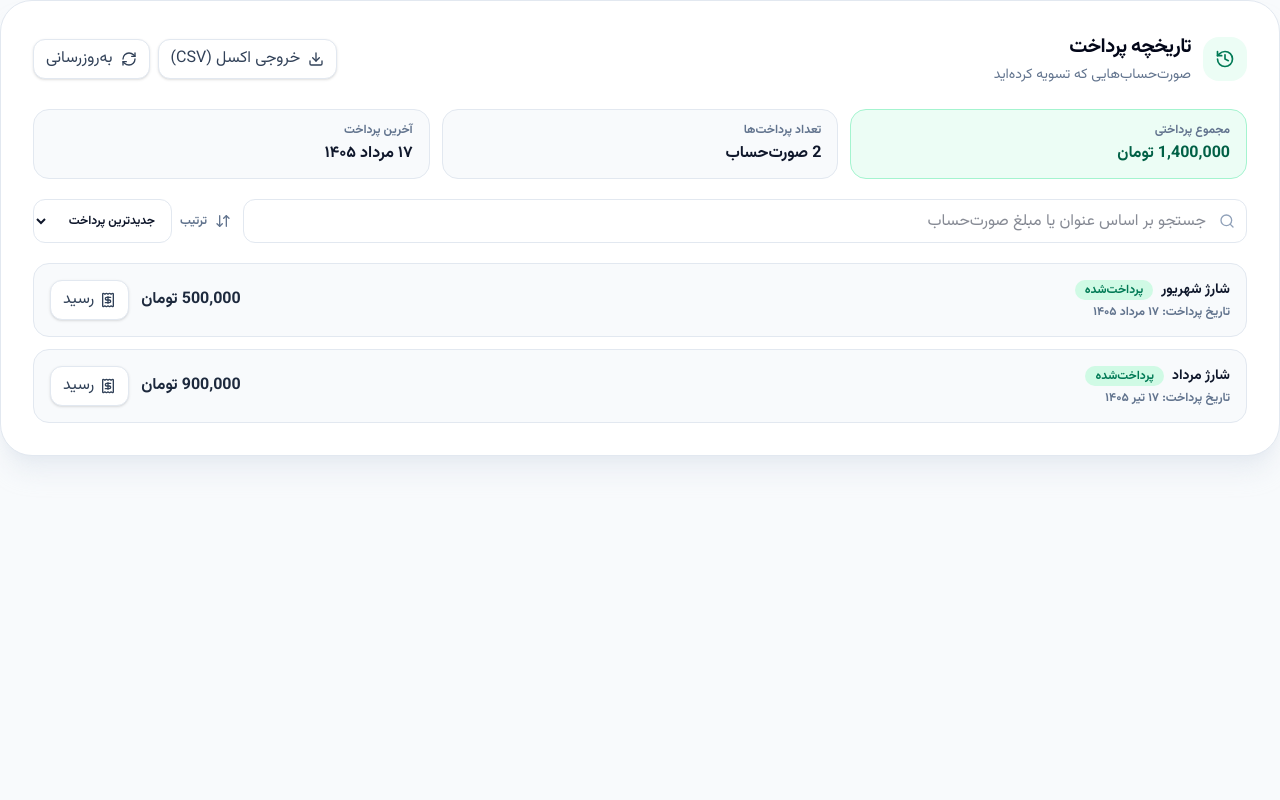
Test: PaymentHistoryList › opens the receipt for the payment whose button was pressed
Click the button with aria-label "مشاهده رسید شارژ مرداد" at point(90, 386), box [50,366,129,406]
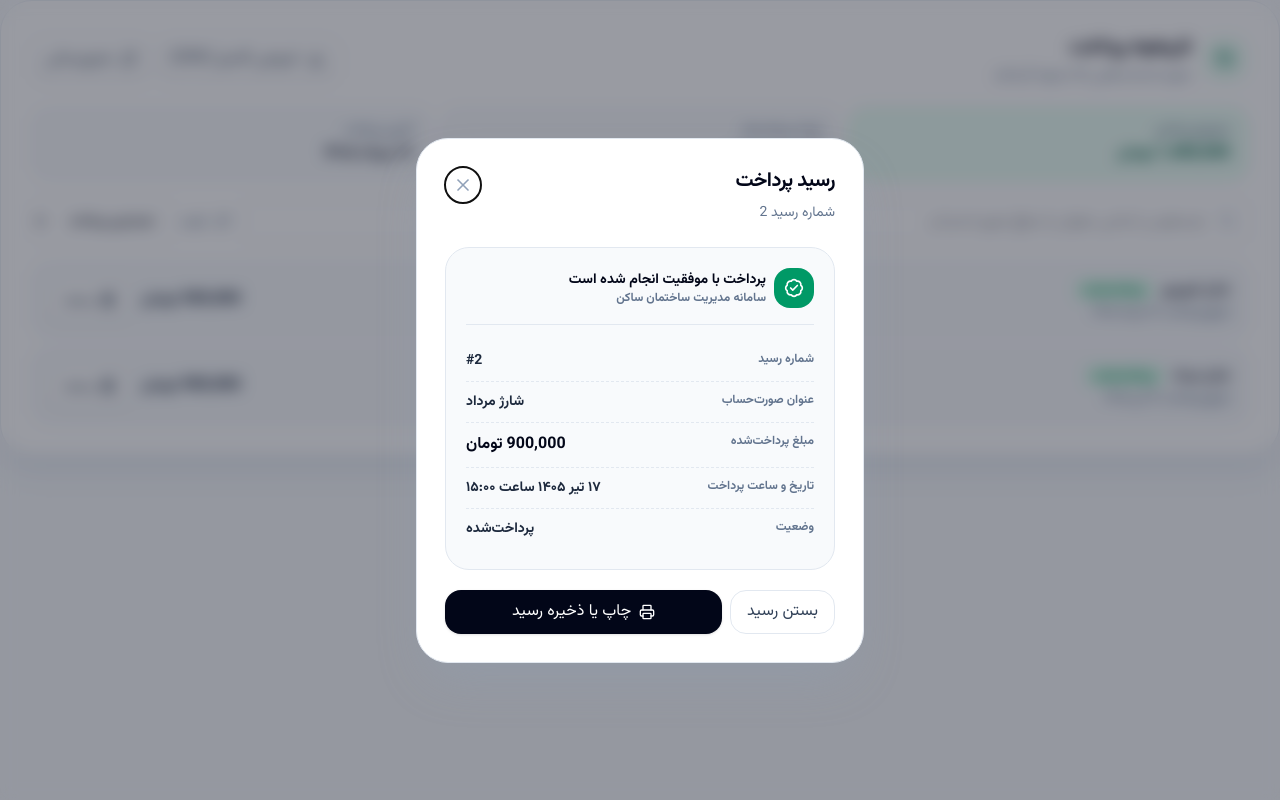
Expected: the text "شماره رسید 2" is shown, [759,202,835,224]
Expected: the text "900,000 تومان" is shown, [466,432,566,456]
